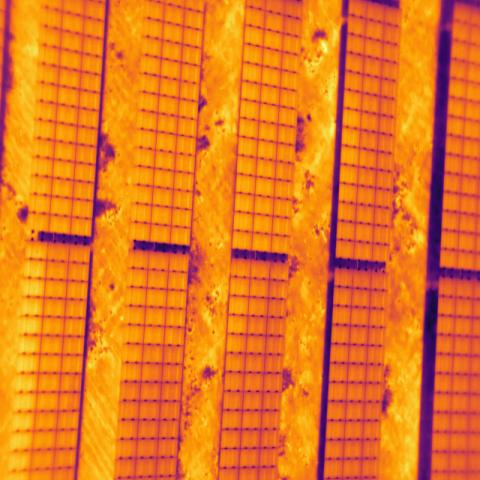fault: (9, 240, 49, 480)
